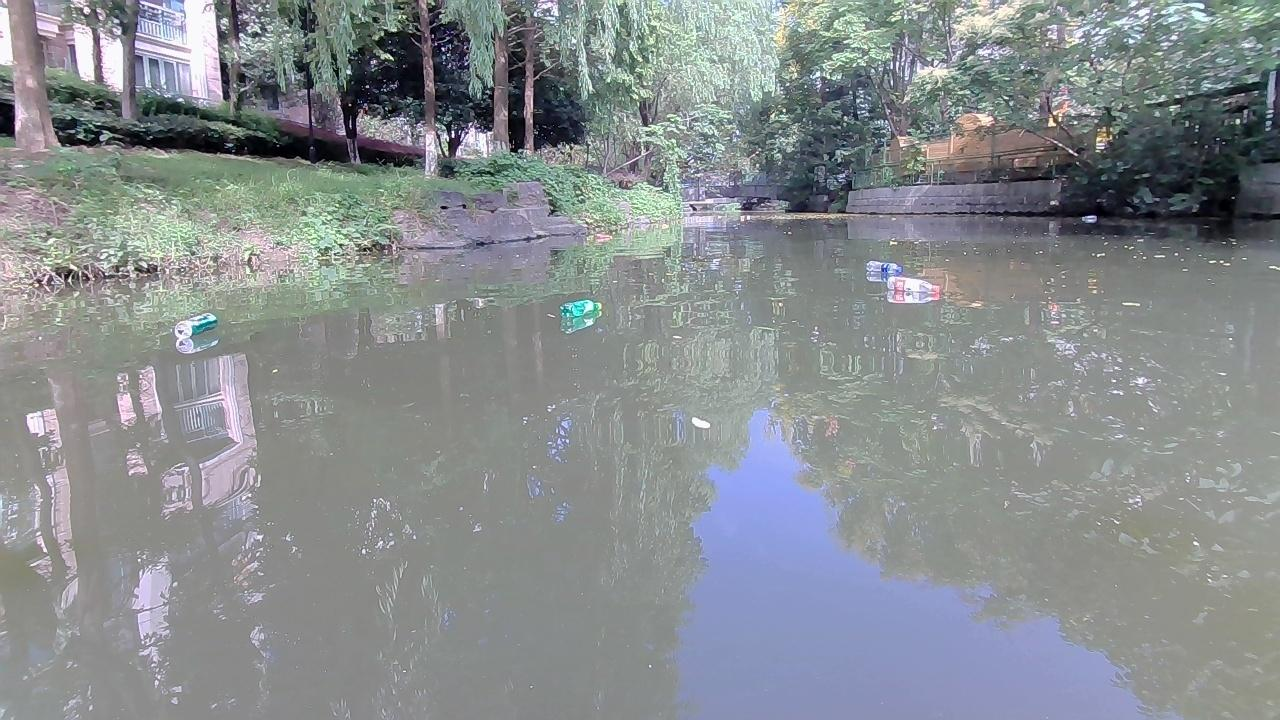bottle: (881, 277, 945, 303), (171, 310, 225, 335), (555, 300, 605, 317), (862, 261, 903, 278), (589, 229, 612, 243), (1078, 213, 1094, 224)
